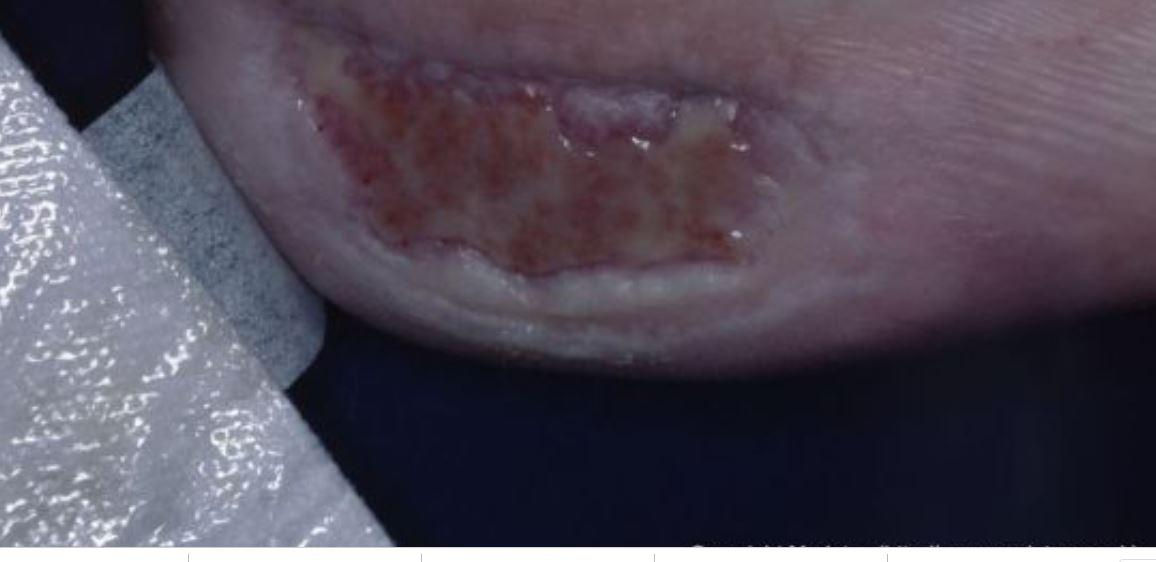Stage4: (275, 24, 899, 311)
